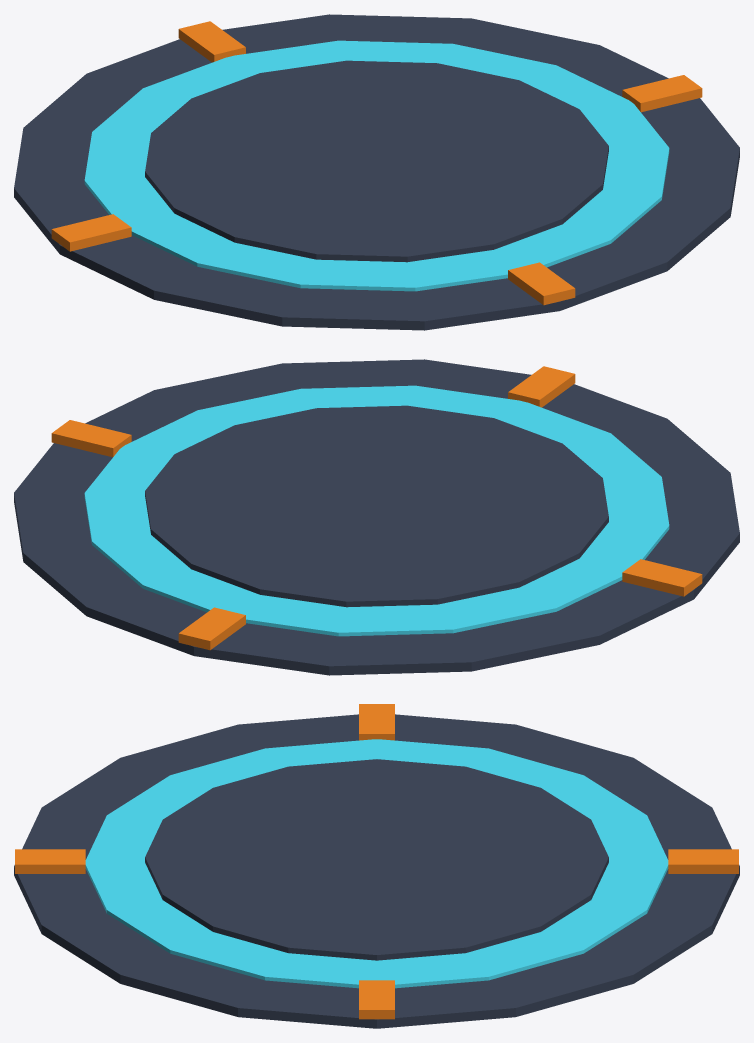
The model's file is env_r9_landing_marker.glb.
3 views of the same model, one above another, from view 1: azimuth 30°, elevation 25°; view 2: azimuth 150°, elevation 25°; view 3: azimuth 270°, elevation 25° (orthographic).
Parts seen in each view (by area): view 1: env_r9_landing_marker; view 2: env_r9_landing_marker; view 3: env_r9_landing_marker.
Boxes of the visible parts, x1,y1,x2,y2 form: env_r9_landing_marker: (14, 14, 739, 330); env_r9_landing_marker: (14, 359, 739, 675); env_r9_landing_marker: (14, 704, 739, 1028).
Bounding box in the file's own units: 3.6 × 0.1 × 3.6.
1 material, 1 textured.
